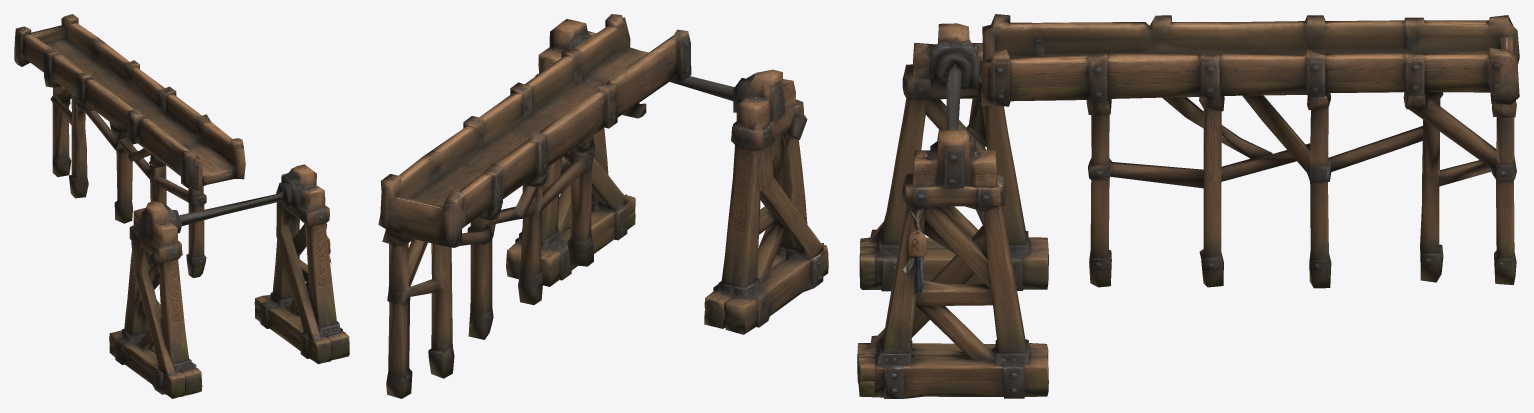
Rendered from soporte-canaleta.glb.
3 views of the same model, side by side, from view 1: azimuth 30°, elevation 25°; view 2: azimuth 150°, elevation 25°; view 3: azimuth 270°, elevation 25° (orthographic). The views are drawn at different scales.
Parts seen in each view (by area): view 1: tripo_node_db6b98c3-da27-48c4-a71b-dce75a1155c1; view 2: tripo_node_db6b98c3-da27-48c4-a71b-dce75a1155c1; view 3: tripo_node_db6b98c3-da27-48c4-a71b-dce75a1155c1.
Part boxes in pixels (box(x1,y1,x2,y2)): tripo_node_db6b98c3-da27-48c4-a71b-dce75a1155c1: box(14, 14, 349, 398); tripo_node_db6b98c3-da27-48c4-a71b-dce75a1155c1: box(378, 14, 828, 398); tripo_node_db6b98c3-da27-48c4-a71b-dce75a1155c1: box(857, 14, 1519, 398).
Bounding box in the file's own units: 0.4796 × 0.4883 × 0.9805.
1 material, 1 textured.
